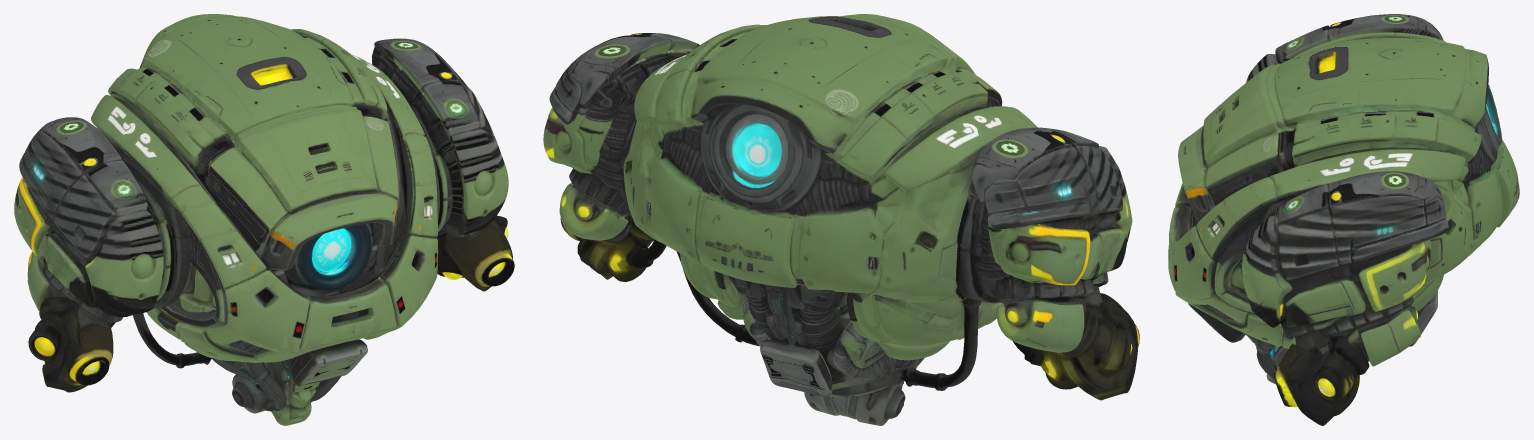
File: ensign-support-scout.glb
The picture shows the model from 3 angles, left to right: view 1: azimuth 30°, elevation 25°; view 2: azimuth 150°, elevation 25°; view 3: azimuth 270°, elevation 25°; orthographic projection. The views are drawn at different scales.
Size of the model in its own units: 2 by 1.39 by 1.29.
Materials: 1 (1 with a texture image).
